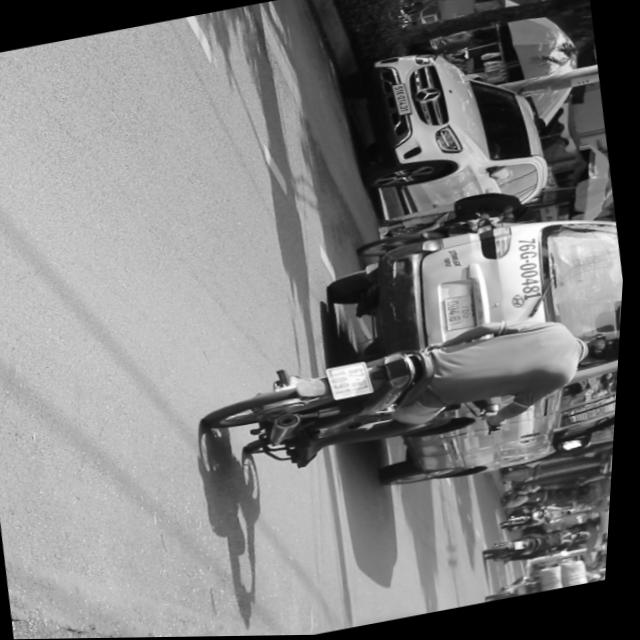licenseplate: (204, 295, 626, 482)
motorcyclist: (579, 325, 625, 369)
nohelmet: (330, 361, 379, 400)
